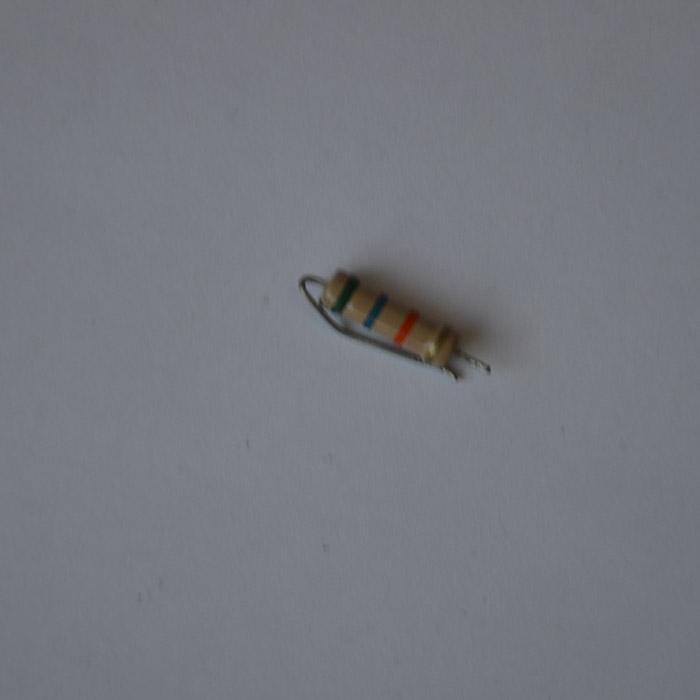resistor: (320, 270, 462, 368)
